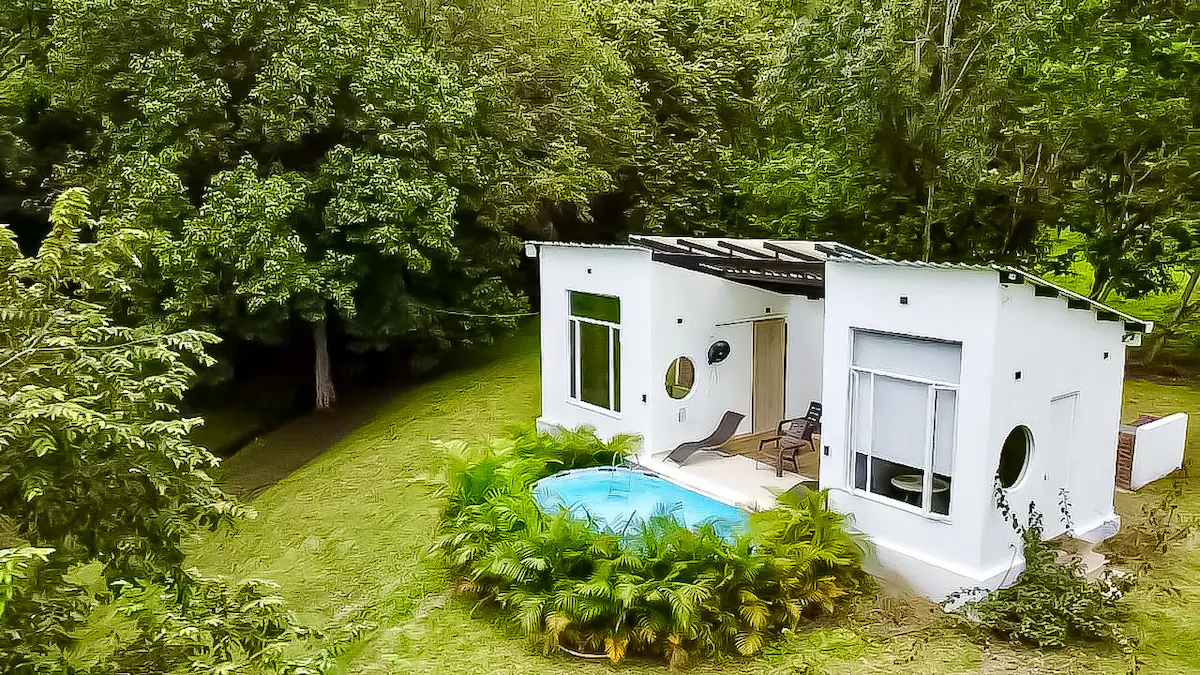House: (496, 192, 1140, 633)
